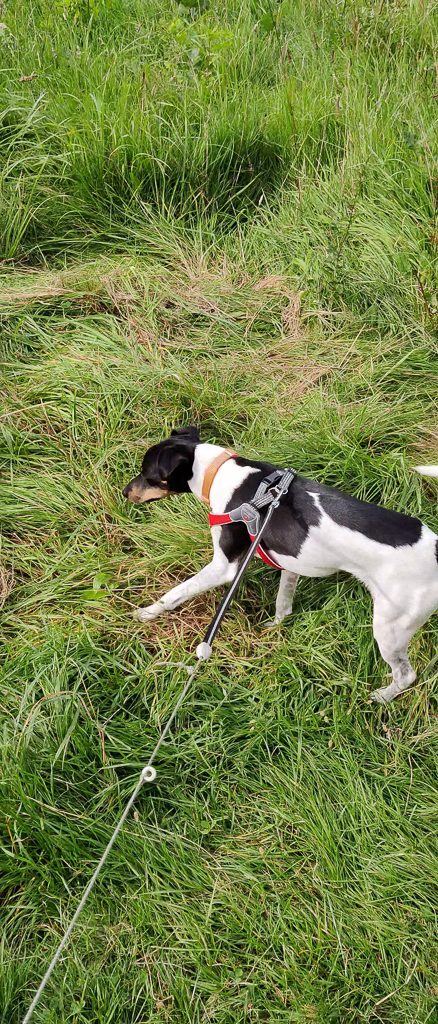Dog: (96, 414, 438, 719)
